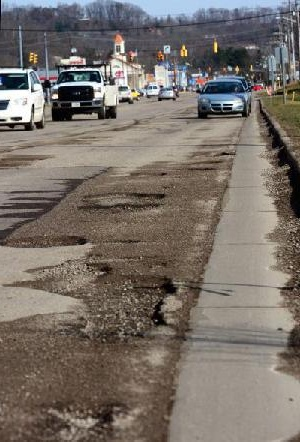pothole: (80, 271, 179, 346), (39, 399, 122, 435), (38, 259, 112, 294), (75, 200, 164, 219), (0, 231, 92, 249), (83, 190, 166, 198), (128, 170, 170, 180)
